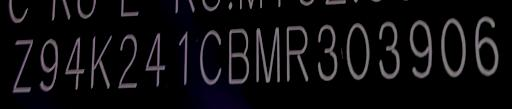letter: (438, 16, 468, 77), (252, 23, 282, 84), (405, 17, 435, 76), (374, 19, 404, 78), (86, 32, 116, 89), (472, 13, 498, 78), (314, 20, 342, 79), (284, 22, 312, 81), (344, 19, 370, 78), (225, 25, 251, 84), (197, 26, 223, 83), (142, 31, 168, 86), (116, 31, 140, 90), (60, 34, 84, 91), (12, 35, 34, 94), (36, 37, 60, 90), (172, 27, 194, 84)
